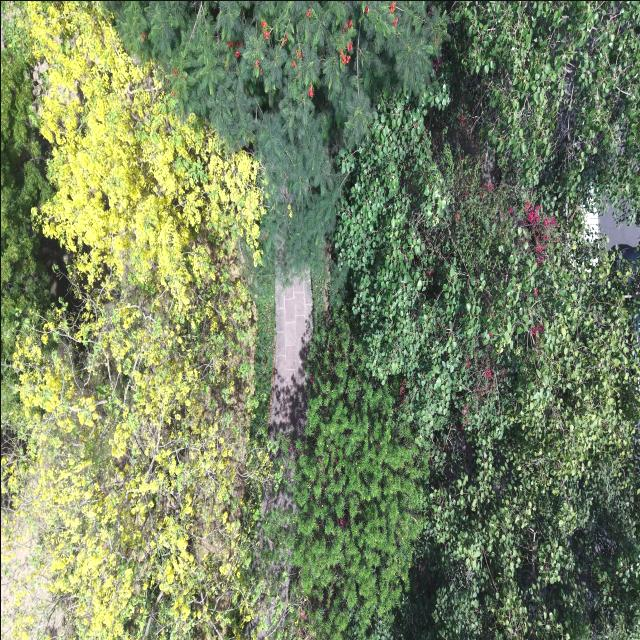DRY_AREA: (270, 272, 312, 448), (270, 272, 312, 447), (1, 522, 63, 639), (1, 545, 31, 639)
PATHWAYS: (262, 271, 312, 527), (271, 272, 312, 436)
VEGETATION_TREE: (1, 1, 639, 639), (298, 4, 638, 637), (290, 99, 639, 639), (3, 3, 268, 639), (336, 100, 639, 638), (112, 1, 639, 262), (110, 1, 447, 264), (29, 3, 263, 310), (293, 311, 428, 639), (444, 1, 639, 218), (1, 6, 57, 509), (1, 26, 49, 441), (1, 49, 48, 363), (252, 265, 275, 439)
